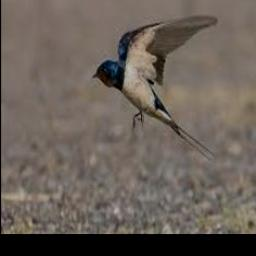Swallow: (92, 14, 218, 160)
